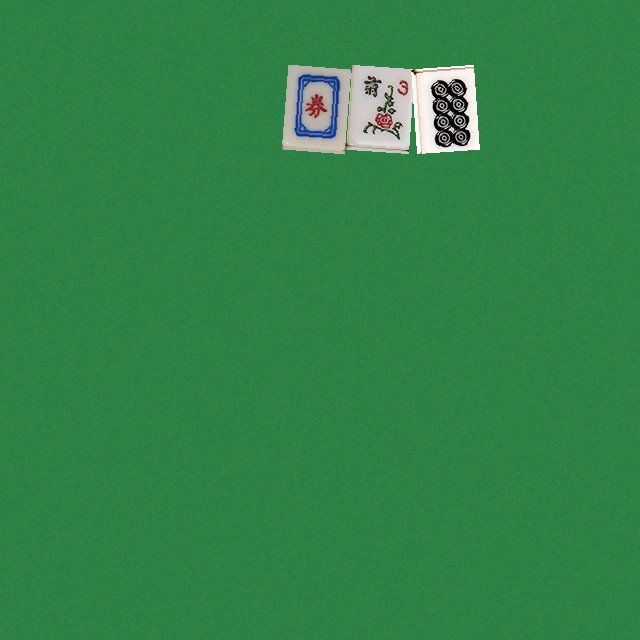tile: (281, 64, 344, 149), (346, 64, 409, 149), (411, 64, 474, 149)
